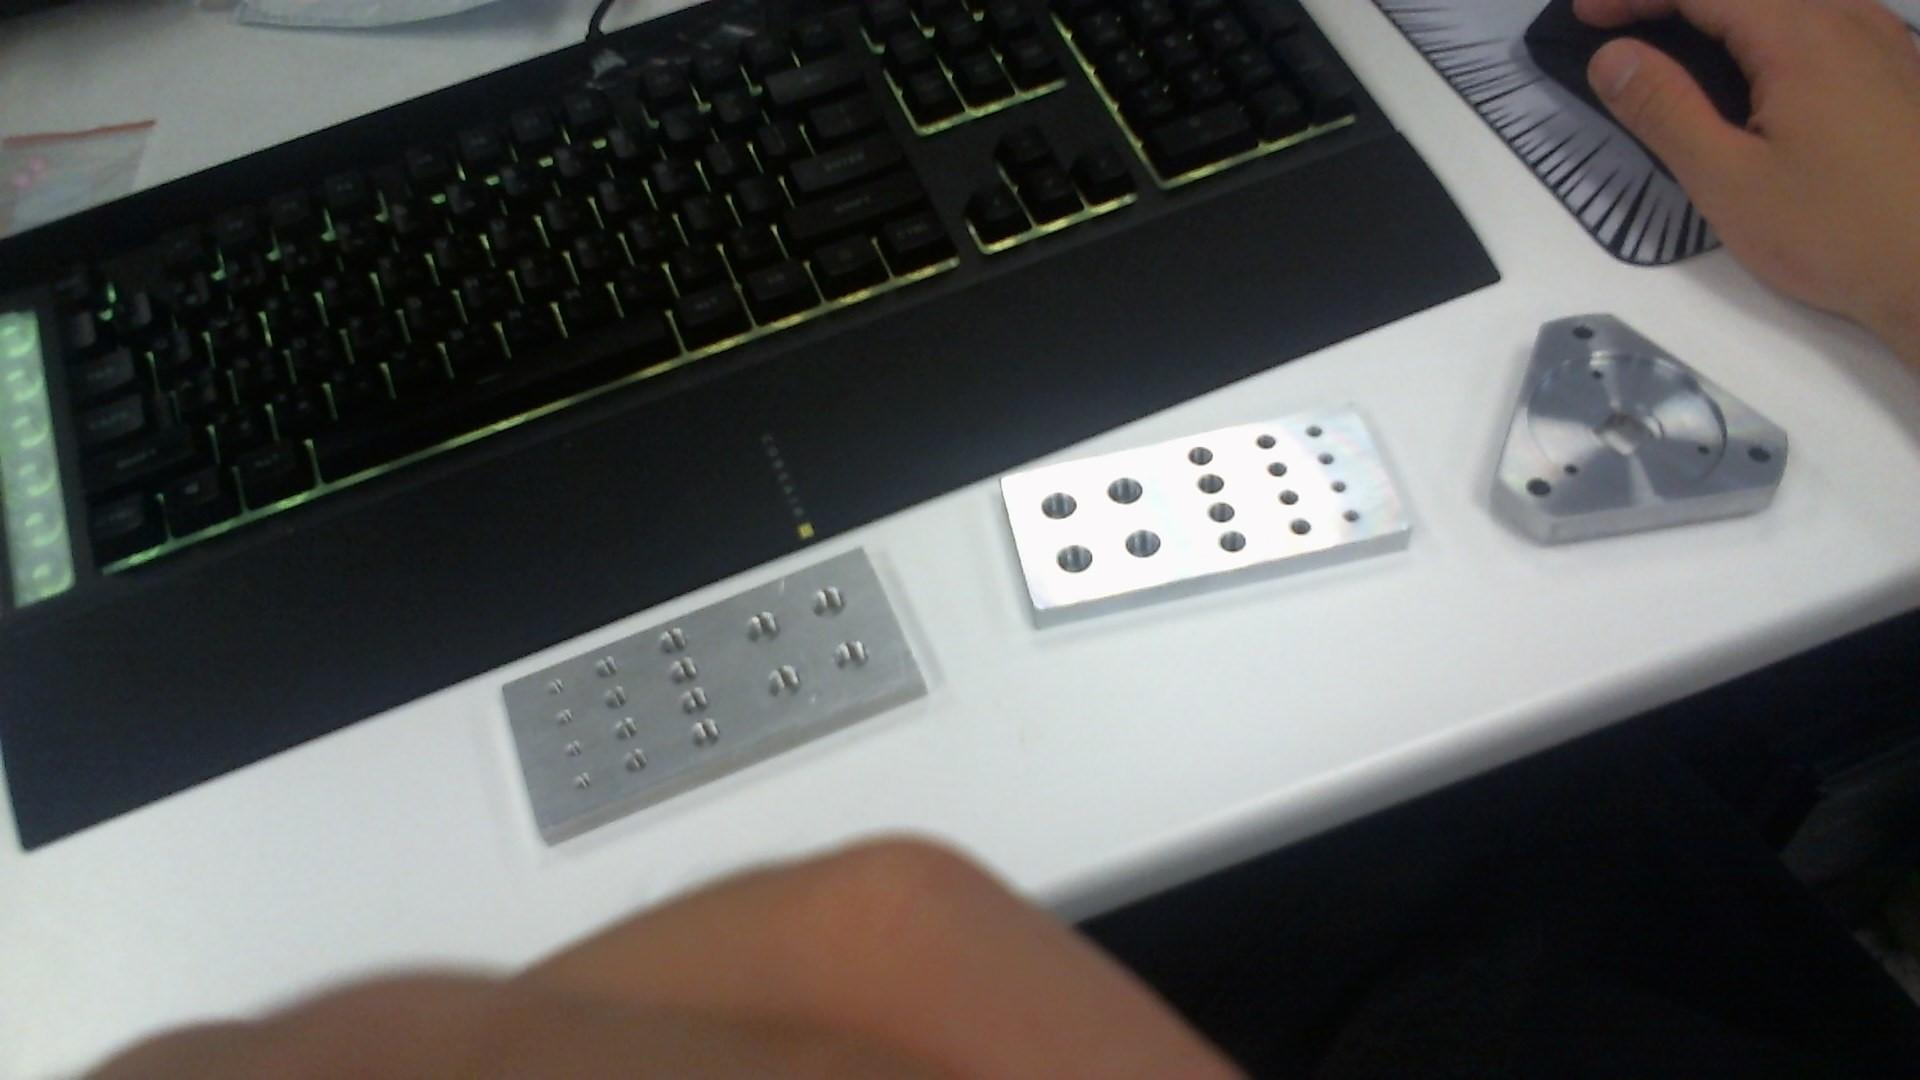hole: (1049, 542, 1107, 581), (1040, 485, 1084, 532), (1119, 524, 1170, 564), (738, 609, 785, 647), (809, 584, 851, 626), (760, 664, 806, 702), (831, 636, 872, 674), (1104, 475, 1149, 508), (656, 621, 687, 657), (678, 682, 710, 716), (666, 654, 698, 687), (688, 718, 721, 750), (1252, 426, 1284, 456), (1202, 500, 1241, 524), (1217, 534, 1255, 557), (1188, 445, 1220, 468), (601, 684, 628, 711), (1746, 442, 1774, 468), (1288, 513, 1314, 539), (1525, 476, 1551, 502), (626, 748, 652, 774), (592, 656, 620, 680), (1198, 475, 1228, 497), (616, 717, 642, 742), (572, 770, 598, 795), (1277, 487, 1302, 510), (541, 677, 567, 698), (567, 740, 589, 764), (1265, 460, 1290, 480), (556, 708, 578, 730), (1574, 325, 1604, 340), (1304, 424, 1325, 442), (1316, 449, 1334, 469), (1340, 512, 1362, 528), (1328, 479, 1344, 496), (1695, 444, 1714, 455), (1592, 370, 1607, 382), (1564, 465, 1584, 474)
